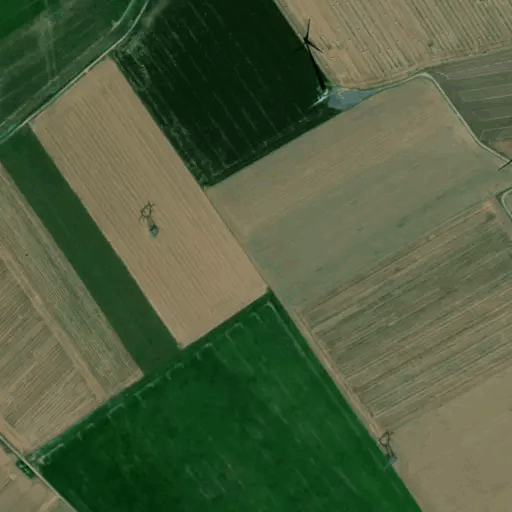wt: (286, 17, 350, 113)
